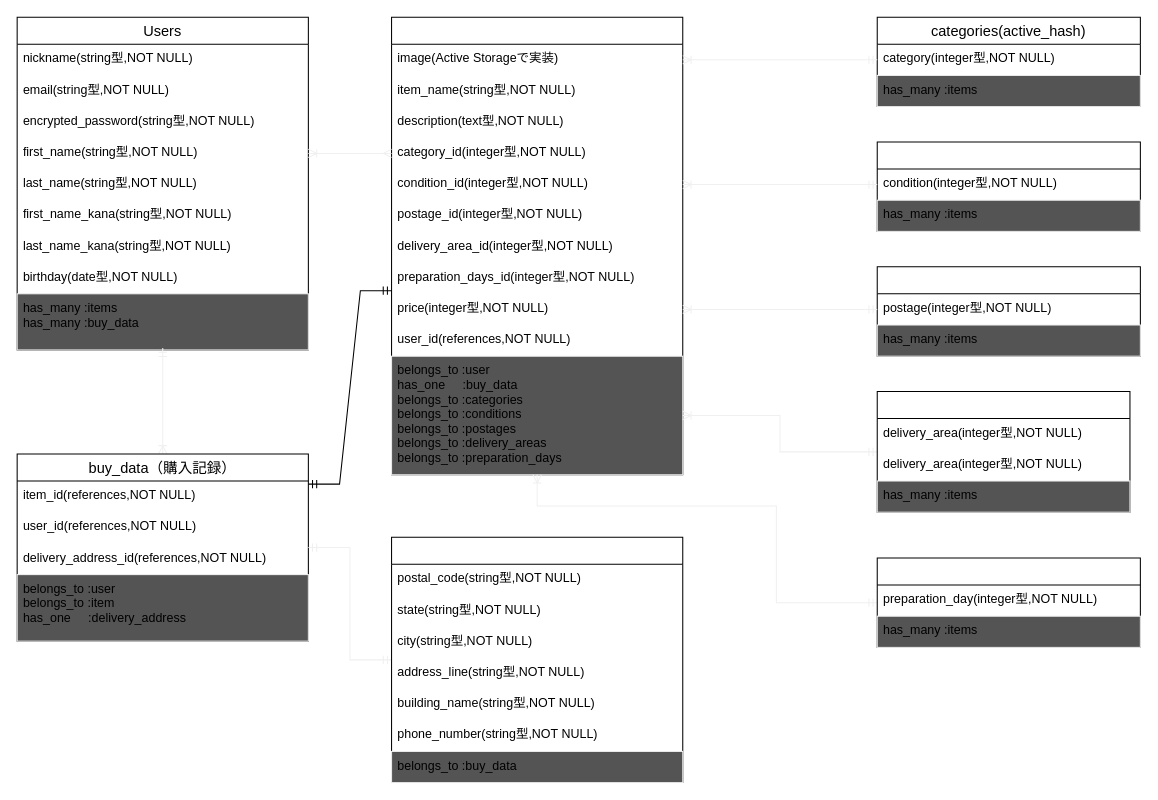
This 1158x800 diagram has some shape labels left out. The shapes that lost their labels are listed below. From the top down, each one's box as (x1, y1, x2, y2) in pixels, then its label:
(876, 141, 1140, 231): conditions(active_hash)
(391, 16, 683, 475): Items（出品情報）
(876, 266, 1140, 356): postages(active_hash)
(876, 391, 1130, 512): delivery_areas(active_hash)
(876, 557, 1140, 647): preparation_days(active_hash)
(391, 536, 683, 783): delivery_address（発送先情報）
